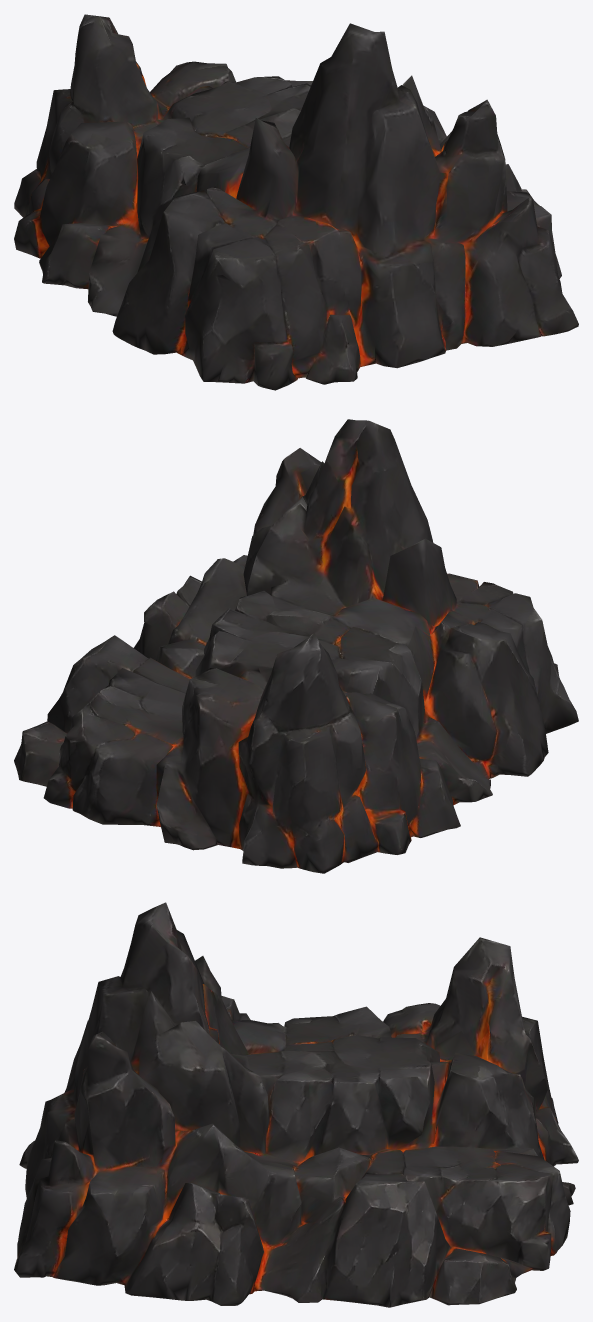
The model's file is rock_outcrop.glb.
3 renders of one model, top to bottom at view 1: azimuth 30°, elevation 25°; view 2: azimuth 150°, elevation 25°; view 3: azimuth 270°, elevation 25°, orthographic. The views are drawn at different scales.
Visible parts, largest first — view 1: tripo_node_cad07bcc-7fe2-4bc9-80e5-b59e5b4d1b3c; view 2: tripo_node_cad07bcc-7fe2-4bc9-80e5-b59e5b4d1b3c; view 3: tripo_node_cad07bcc-7fe2-4bc9-80e5-b59e5b4d1b3c.
Part boxes in pixels (bbox=[...]): tripo_node_cad07bcc-7fe2-4bc9-80e5-b59e5b4d1b3c: bbox=[14, 14, 578, 390]; tripo_node_cad07bcc-7fe2-4bc9-80e5-b59e5b4d1b3c: bbox=[14, 419, 578, 873]; tripo_node_cad07bcc-7fe2-4bc9-80e5-b59e5b4d1b3c: bbox=[14, 902, 578, 1307].
Size of the model in its own units: 0.8782 by 0.5798 by 1.
1 material, 1 textured.
